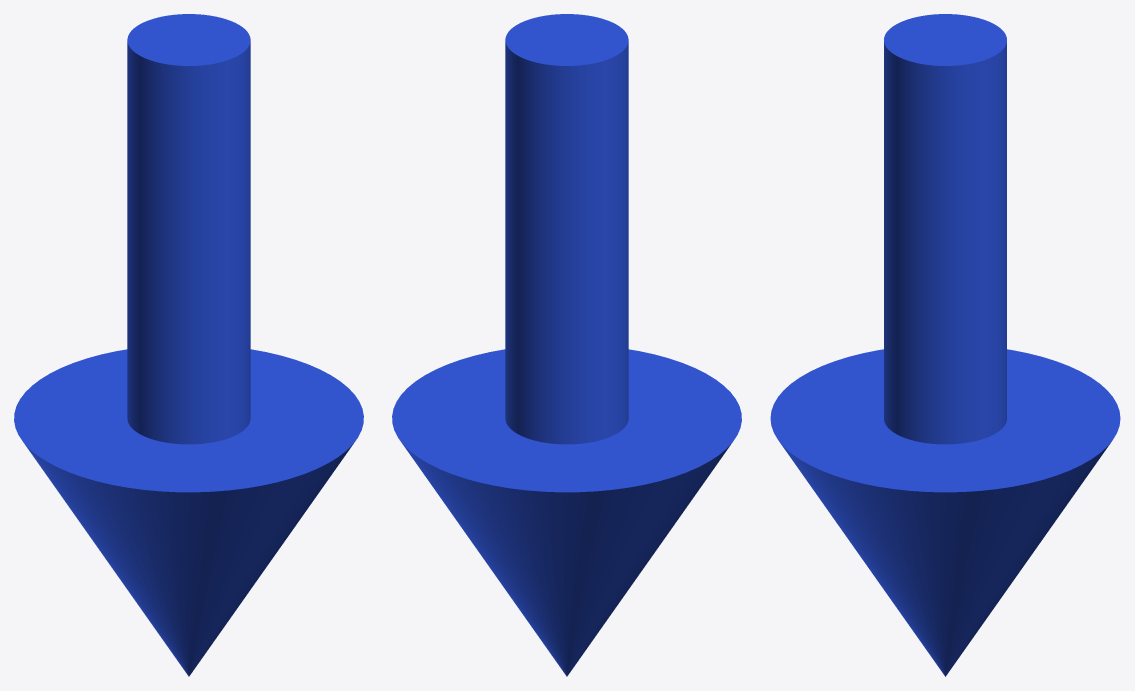
The model's file is Arrow.fbx.
3 views of the same model, side by side, from view 1: azimuth 30°, elevation 25°; view 2: azimuth 150°, elevation 25°; view 3: azimuth 270°, elevation 25° (orthographic).
Parts seen in each view (by area): view 1: Cylinder.003; view 2: Cylinder.003; view 3: Cylinder.003.
Part boxes in pixels (x1,y1,x2,y2): Cylinder.003: [14, 14, 363, 676]; Cylinder.003: [392, 14, 741, 676]; Cylinder.003: [770, 14, 1120, 676].
Bounding box in the file's own units: 0.0144 × 0.0144 × 0.0289.
